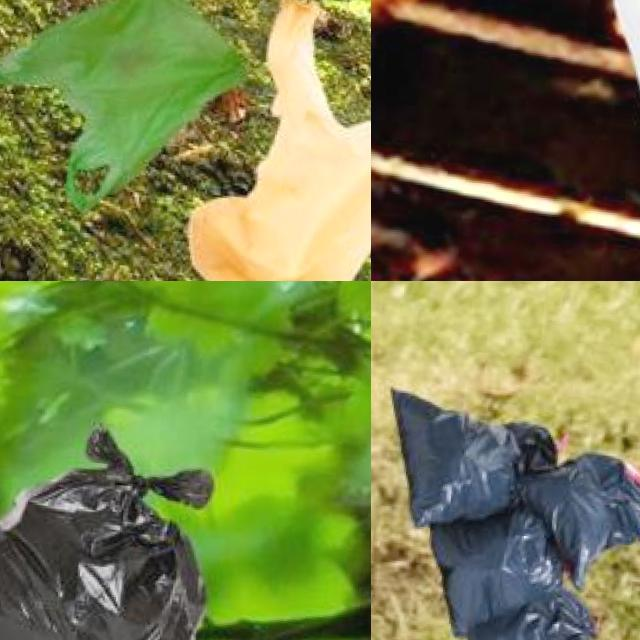waste: (0, 0, 256, 215), (0, 413, 222, 640), (192, 0, 371, 281), (378, 388, 554, 512), (420, 512, 570, 617), (528, 457, 640, 590), (460, 592, 612, 640)
